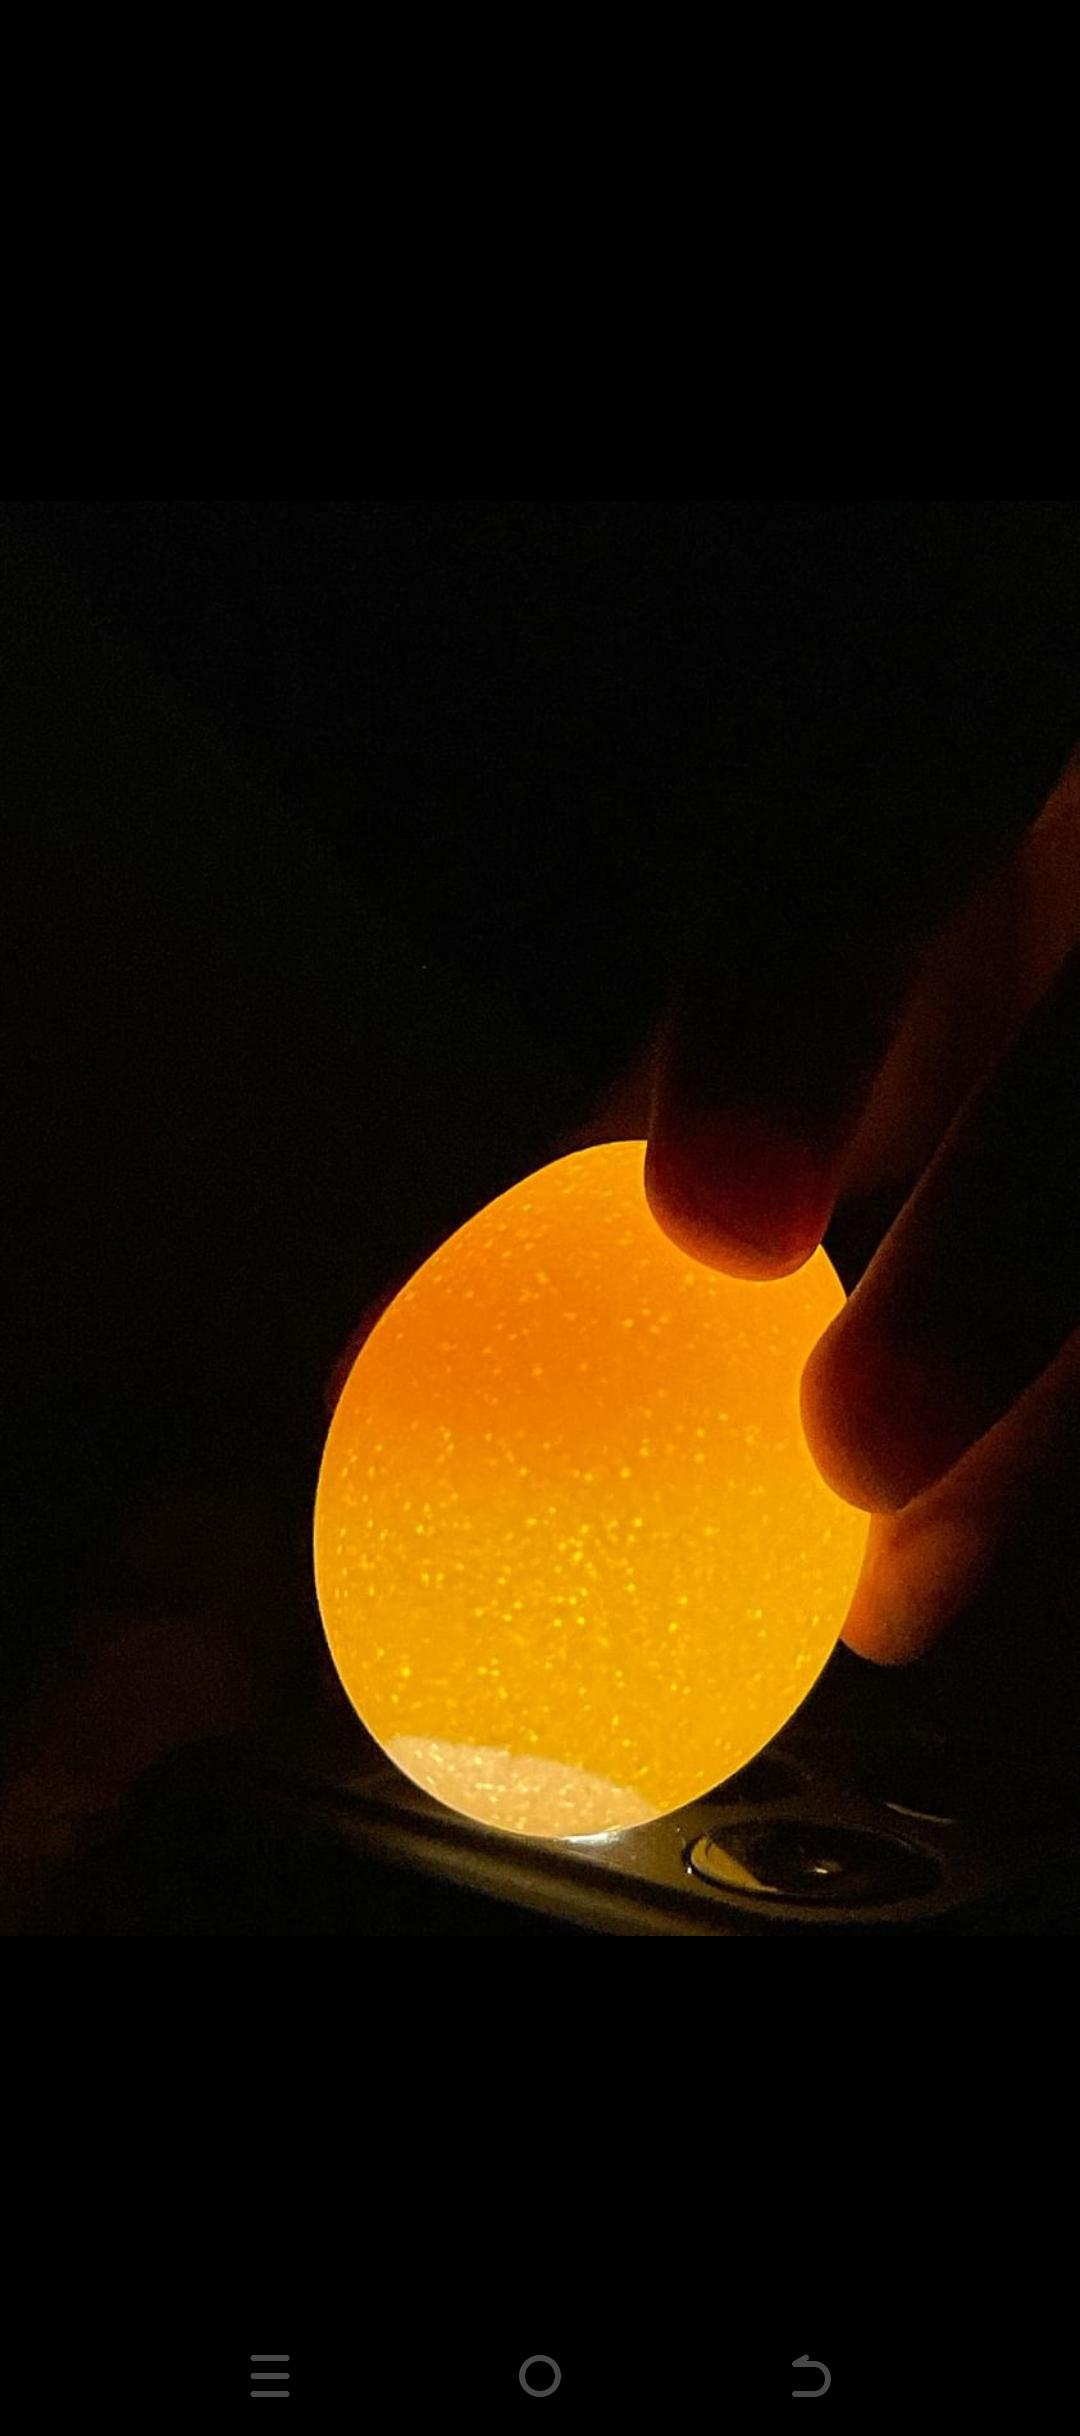AA - Premium: (291, 1129, 887, 1867)
